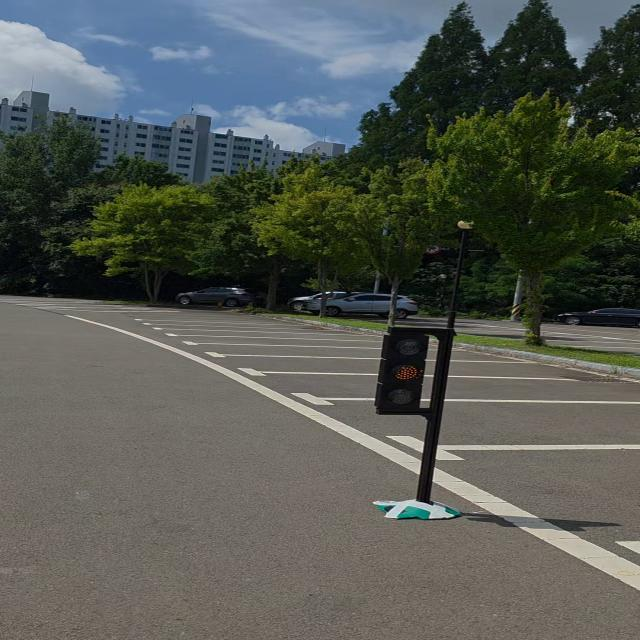yellow: (377, 323, 434, 420)
